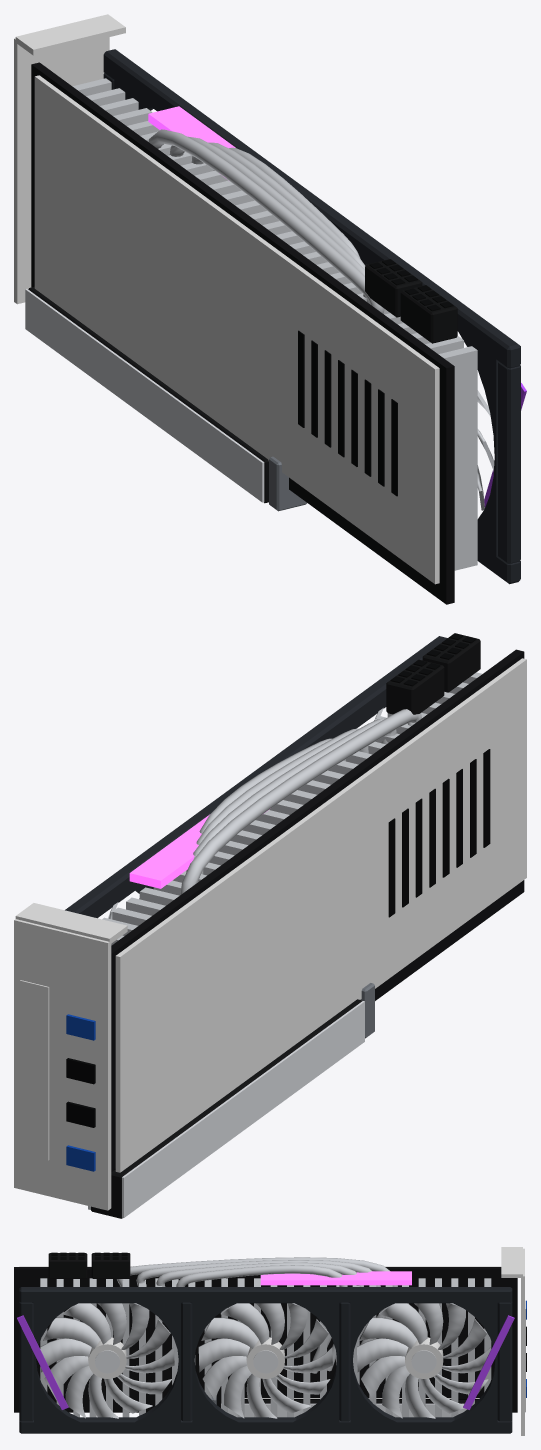
File: hwm_gpu_rtx4080s.glb
3 views of the same model, one above another, from view 1: azimuth 30°, elevation 25°; view 2: azimuth 150°, elevation 25°; view 3: azimuth 270°, elevation 25° (orthographic). The views are drawn at different scales.
Visible parts, largest first — view 1: Card_0, Slot_0; view 2: Card_0, Slot_0; view 3: Card_0, Rotor_X_1, Rotor_X_0, Rotor_X_2, Slot_0.
Part boxes in pixels (<box>): Card_0: <box>14,14,526,604</box>; Slot_0: <box>25,286,306,511</box>; Card_0: <box>14,633,526,1210</box>; Slot_0: <box>88,983,374,1218</box>; Card_0: <box>14,1247,526,1435</box>; Rotor_X_1: <box>198,1303,332,1418</box>; Rotor_X_0: <box>357,1303,490,1418</box>; Rotor_X_2: <box>40,1303,174,1418</box>; Slot_0: <box>211,1396,478,1417</box>.
Size of the model in its own units: 0.0376 by 0.1076 by 0.2852.
